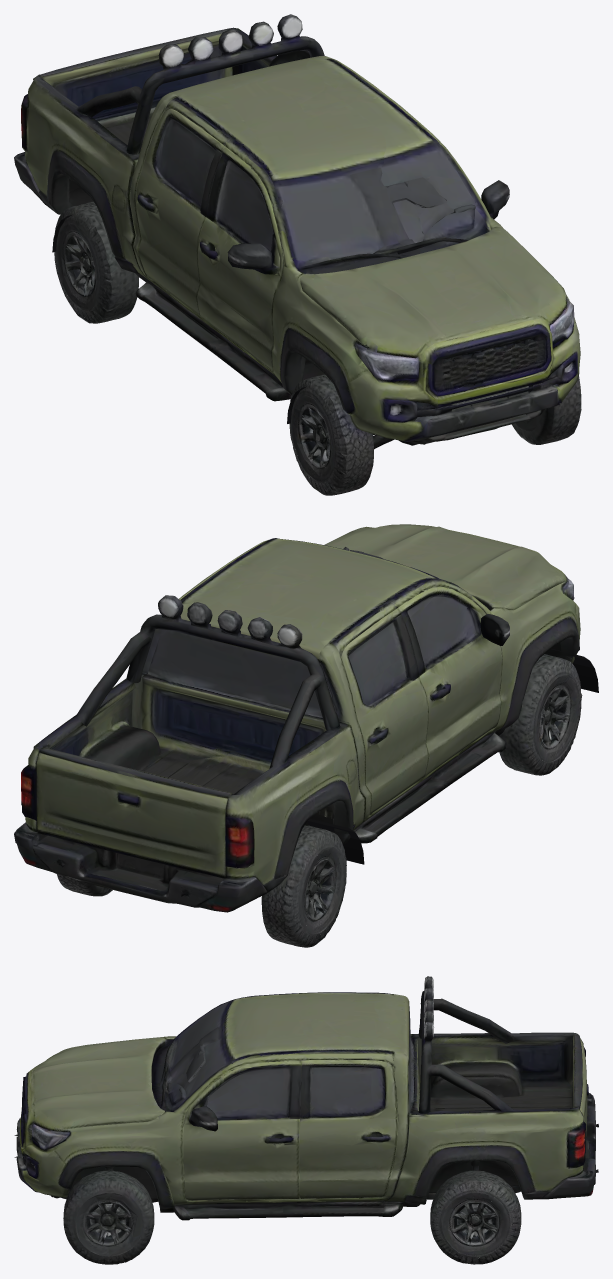
Rendered from car_pickup.glb.
3 renders of one model, top to bottom at view 1: azimuth 30°, elevation 25°; view 2: azimuth 150°, elevation 25°; view 3: azimuth 270°, elevation 25°, orthographic. The views are drawn at different scales.
Visible parts, largest first — view 1: body, wheel_FR, wheel_RR, wheel_FL; view 2: body, wheel_FR, wheel_RR, liner_RR, liner_FR; view 3: body, wheel_FL, wheel_RL.
Boxes of the visible parts, left/top/right/bottom form: body: left=14, top=14, right=580, bottom=495; wheel_FR: left=292, top=389, right=373, bottom=495; wheel_RR: left=59, top=219, right=138, bottom=323; wheel_FL: left=515, top=375, right=581, bottom=444; body: left=14, top=524, right=580, bottom=947; wheel_FR: left=536, top=655, right=582, bottom=767; wheel_RR: left=303, top=832, right=346, bottom=938; liner_RR: left=307, top=818, right=364, bottom=864; liner_FR: left=551, top=648, right=598, bottom=692; body: left=14, top=976, right=598, bottom=1264; wheel_FL: left=63, top=1174, right=140, bottom=1263; wheel_RL: left=430, top=1176, right=502, bottom=1262.
Size of the model in its own units: 2.35 by 2.28 by 5.5.
2 materials, 1 textured.
